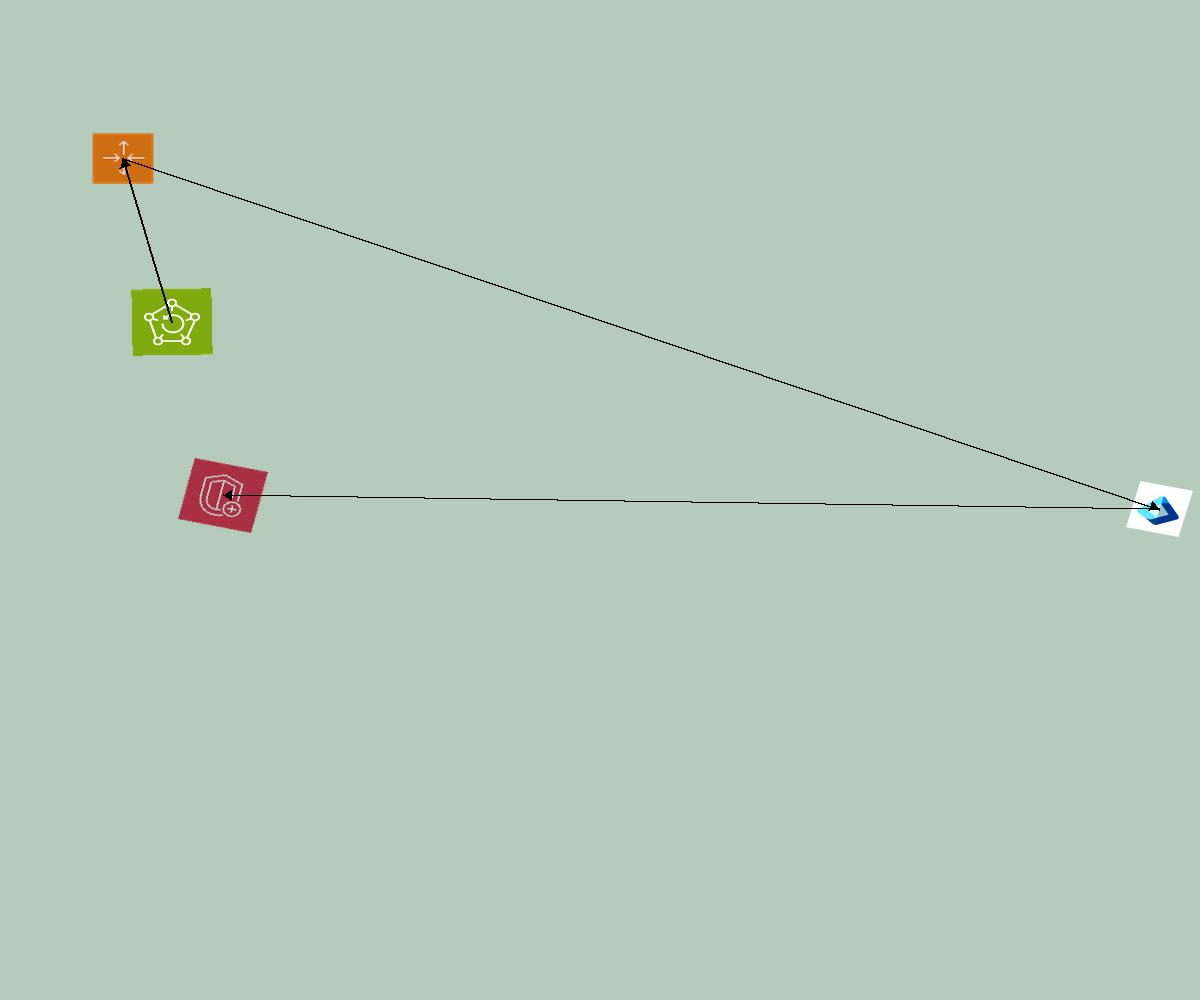AWS-Backup: (131, 288, 213, 356)
AWS-Scaling-group: (91, 132, 155, 185)
AWS-Shield: (178, 458, 268, 533)
Azure_microsoft_entra: (1126, 481, 1193, 537)
